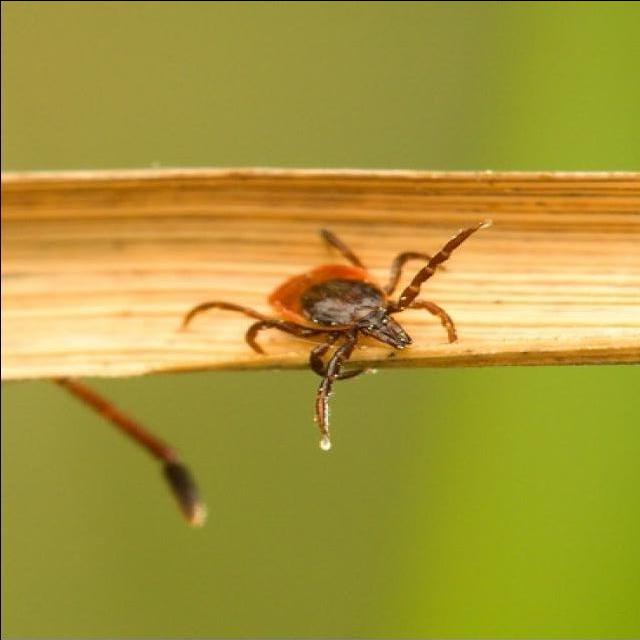Ixodes Ricinus-F: (183, 220, 492, 451)
